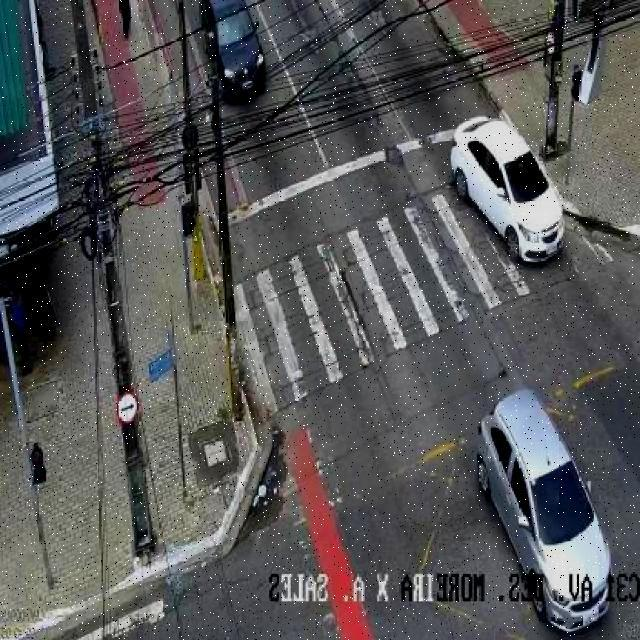Car: (472, 389, 630, 637), (448, 109, 576, 264), (199, 0, 277, 102)
